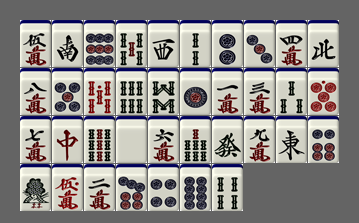0m: (52, 164, 83, 211)
0p: (308, 68, 339, 115)
0s: (84, 68, 115, 115)
1m: (212, 68, 243, 115)
1p: (180, 68, 211, 115)
1s: (20, 164, 51, 211)
1z: (276, 116, 307, 163)
2m: (84, 164, 115, 211)
2p: (212, 20, 243, 67)
2s: (180, 20, 211, 67)
2z: (52, 20, 83, 67)
3m: (244, 68, 275, 115)
3p: (244, 20, 275, 67)
3s: (276, 68, 307, 115)
3z: (148, 20, 179, 67)
4m: (276, 20, 307, 67)
4p: (148, 164, 179, 211)
4s: (212, 164, 243, 211)
4z: (308, 20, 339, 67)
5m: (20, 20, 51, 67)
5p: (52, 68, 83, 115)
5s: (116, 20, 147, 67)
5z: (116, 116, 147, 163)
6m: (148, 116, 179, 163)
6p: (308, 116, 339, 163)
6s: (116, 68, 147, 115)
6z: (212, 116, 243, 163)
7m: (20, 116, 51, 163)
7p: (116, 164, 147, 211)
7s: (180, 116, 211, 163)
7z: (52, 116, 83, 163)
8m: (20, 68, 51, 115)
8p: (180, 164, 211, 211)
8s: (148, 68, 179, 115)
9m: (244, 116, 275, 163)
9p: (84, 20, 115, 67)
9s: (84, 116, 115, 163)
